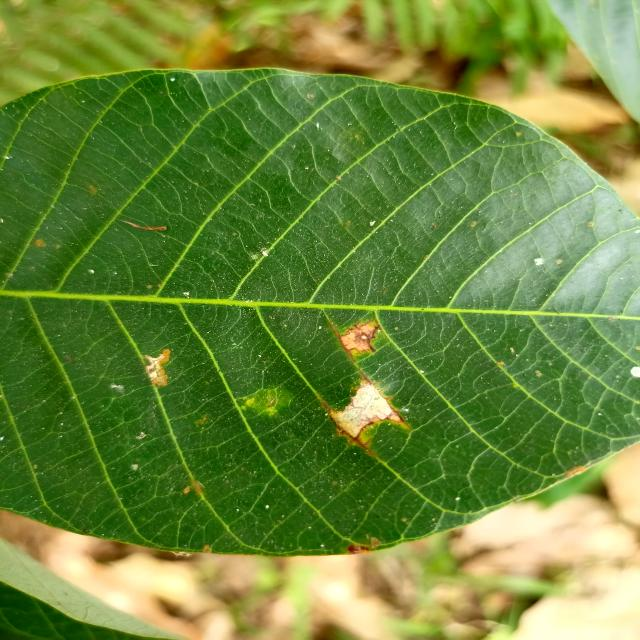Colletotrichum: (359, 334, 368, 341)
Corynespora: (331, 422, 374, 454), (330, 323, 355, 362), (360, 372, 378, 388)
Leaf-Blight: (329, 385, 402, 437)
